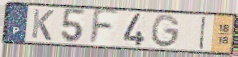4: (121, 12, 147, 47)
5: (59, 7, 87, 45)
F: (87, 8, 120, 47)
G: (151, 14, 182, 49)
I: (198, 16, 208, 51)
K: (29, 8, 55, 43)
